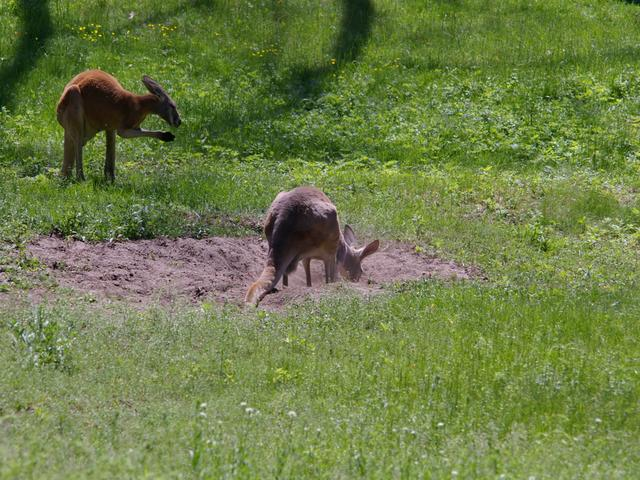kangaroo: (27, 43, 207, 221), (219, 184, 389, 328)
